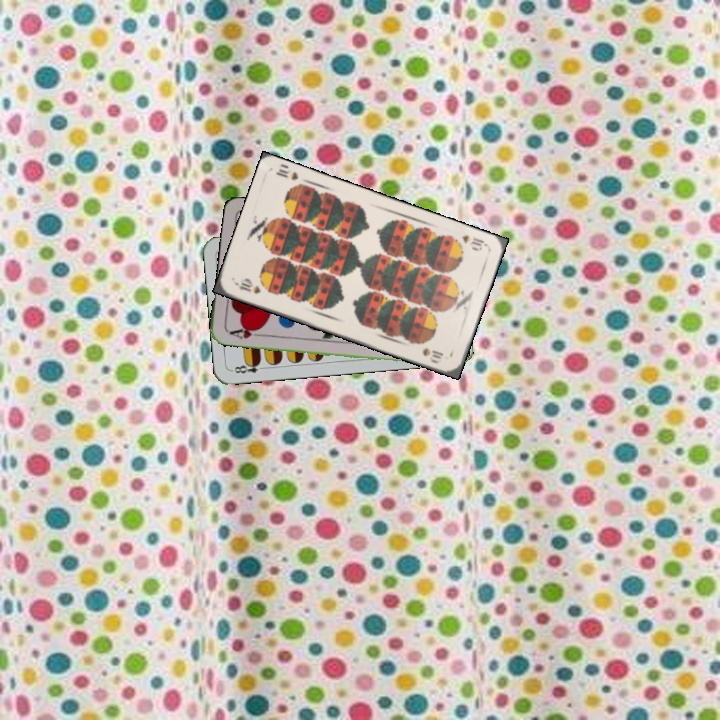E8: (228, 358, 269, 376)
HA: (224, 322, 265, 342)
S10: (458, 231, 489, 253), (231, 276, 263, 297)
